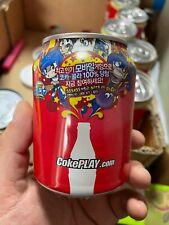metal: (33, 33, 136, 196)
